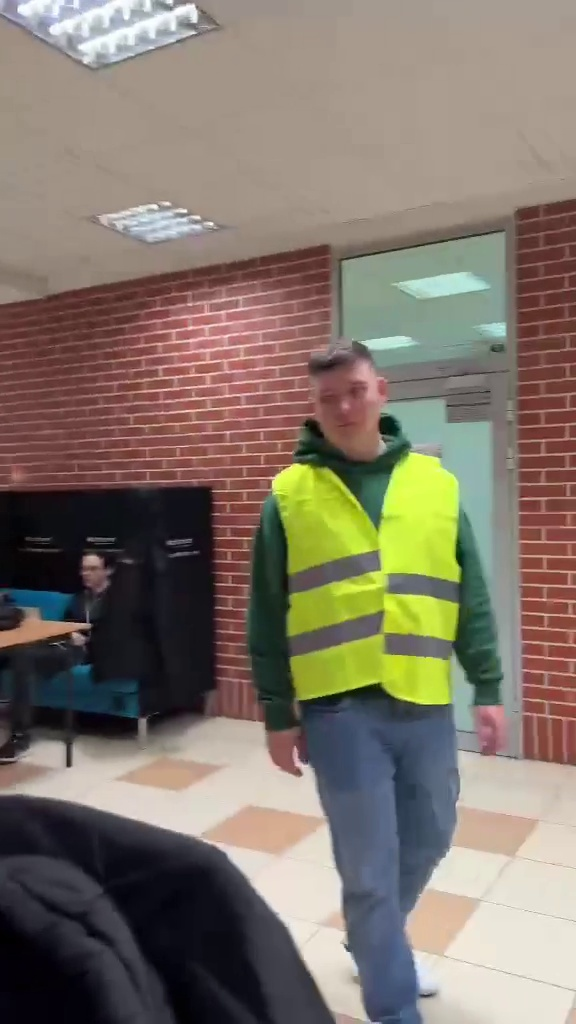no vest: (4, 552, 130, 741)
vest: (256, 344, 516, 1016)
